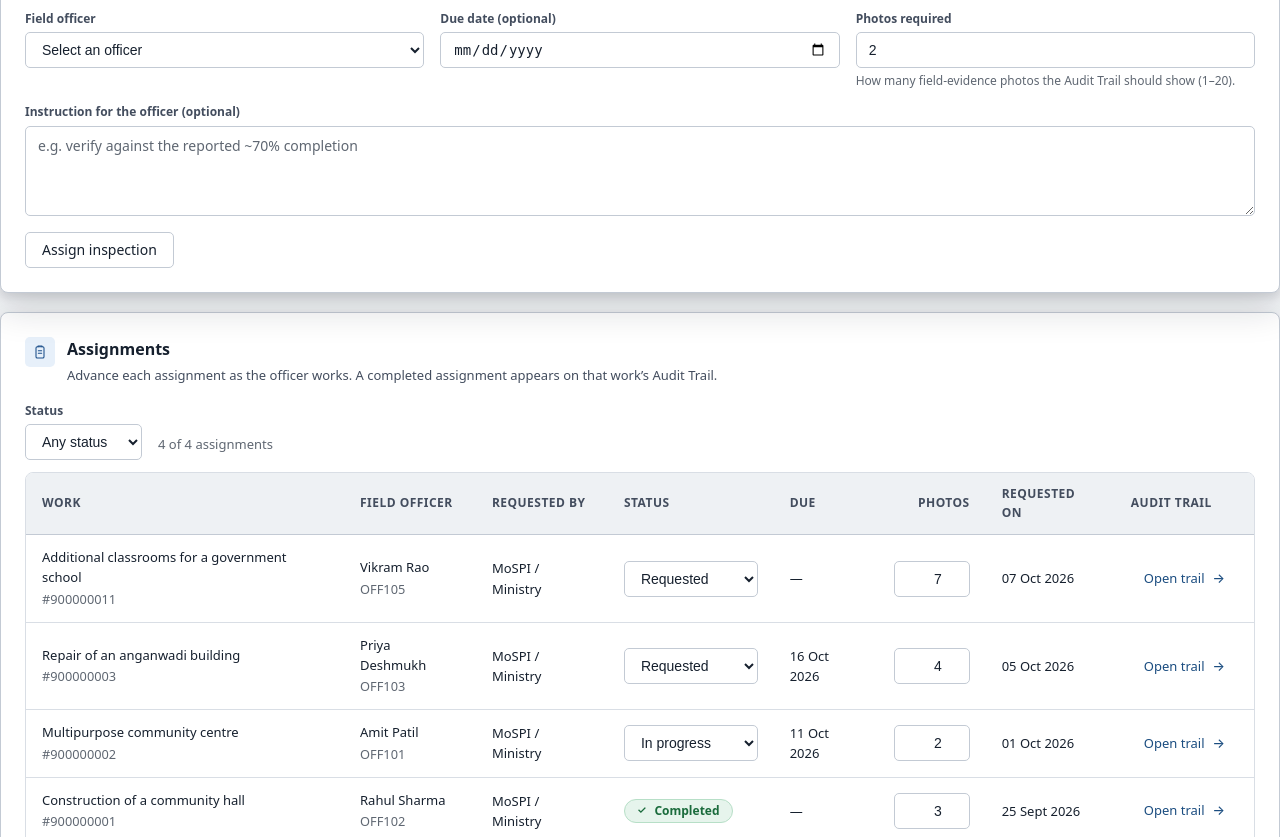
Test case: InspectionsPage › gates COMPLETED/CANCELLED behind a written sign-off request, and does not apply it yet
(page scrolled)
Select "→ Completed" in the dropdown named "Status for " in the row of "900000011": (691, 578) [624, 560, 758, 596]
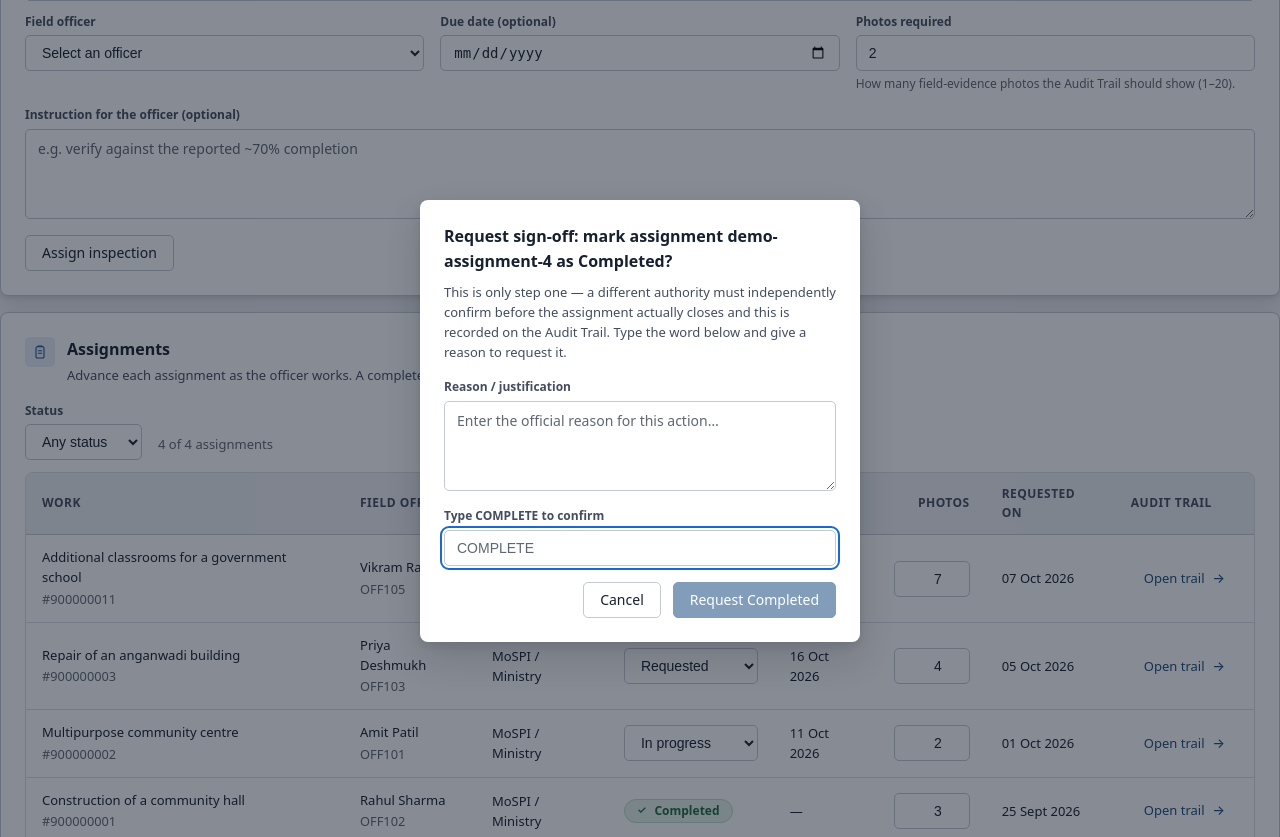
Check: the heading is shown, box [444, 225, 778, 272]
Check: the button "Request Completed" is disabled, box [673, 582, 836, 618]
// wrong confirmation word keeps it disabled
In the field labelled "Type COMPLETE to confirm": (640, 548) [444, 530, 836, 566], type "wrong"
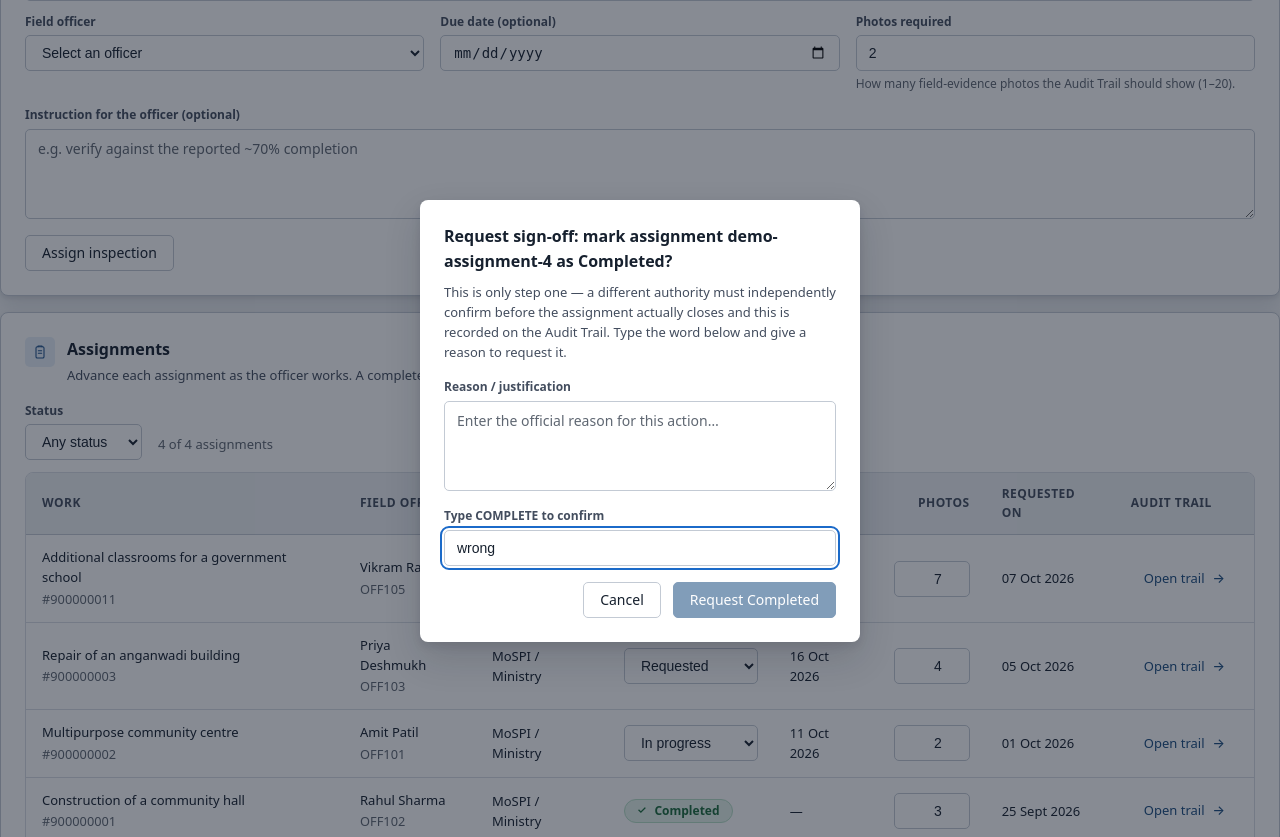
In the text box labelled "Reason / justification": (640, 446) [444, 401, 836, 491], type "Inspected on-site, work matches the sanctioned scope."
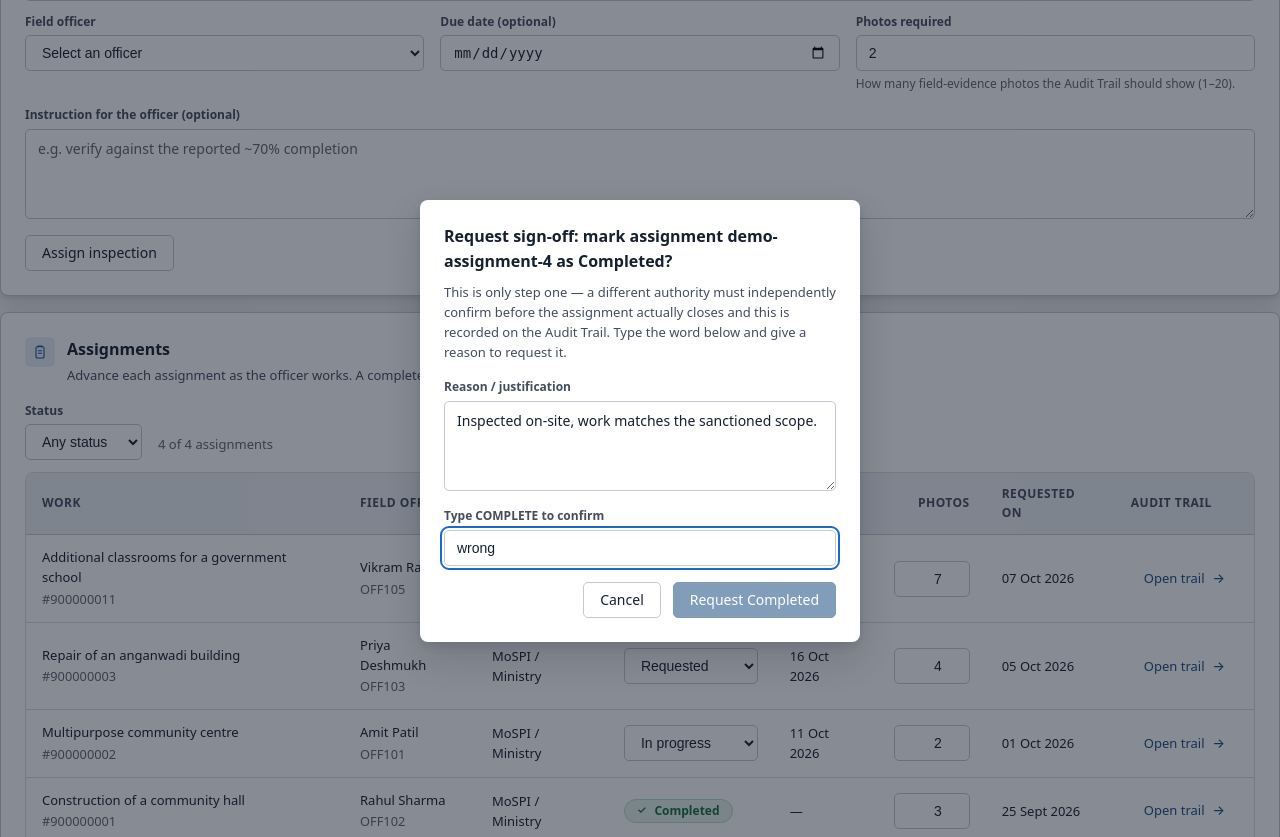
Check: the button "Request Completed" is disabled, box [673, 582, 836, 618]
Replace the text in the field labelled "Type COMPLETE to confirm" with "complete": (640, 548) [444, 530, 836, 566]
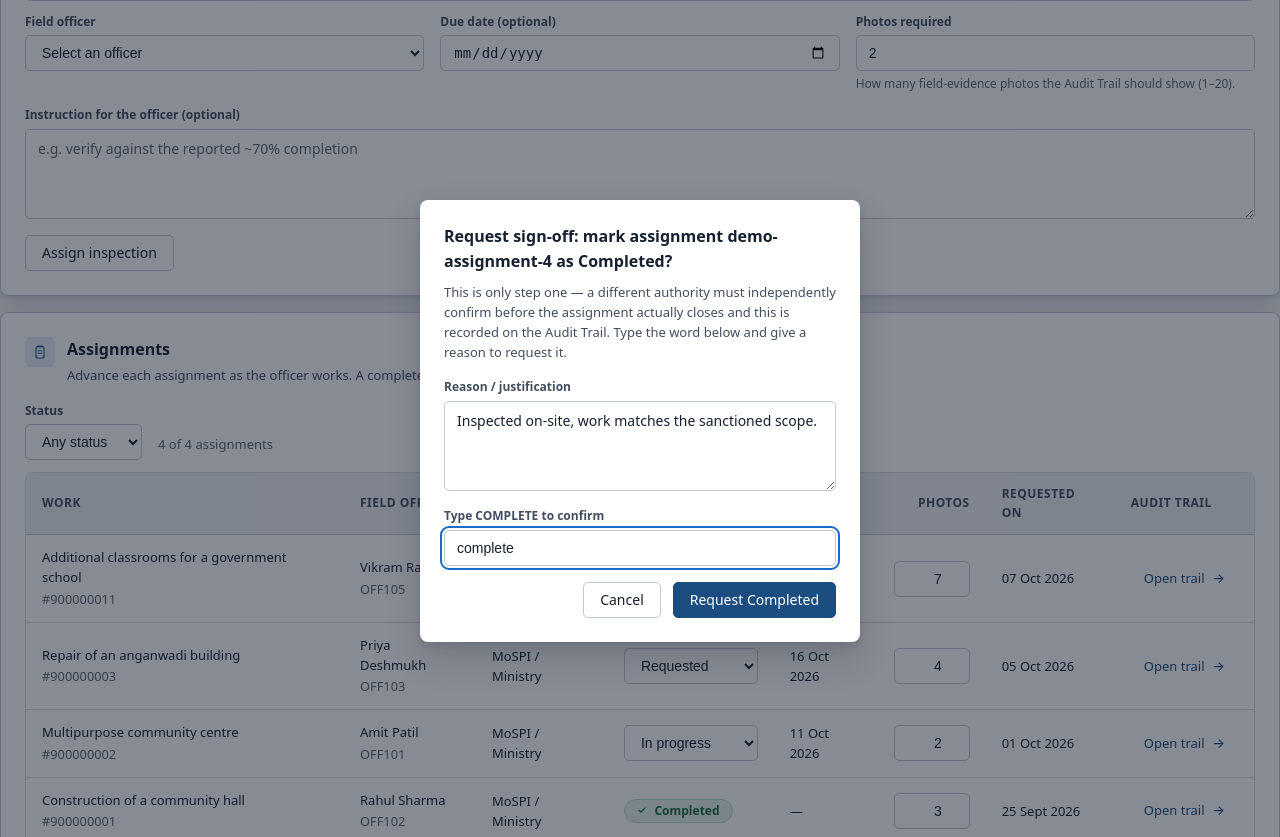
Check: the button "Request Completed" is enabled
Click the button "Request Completed": click(754, 600) [673, 582, 836, 618]
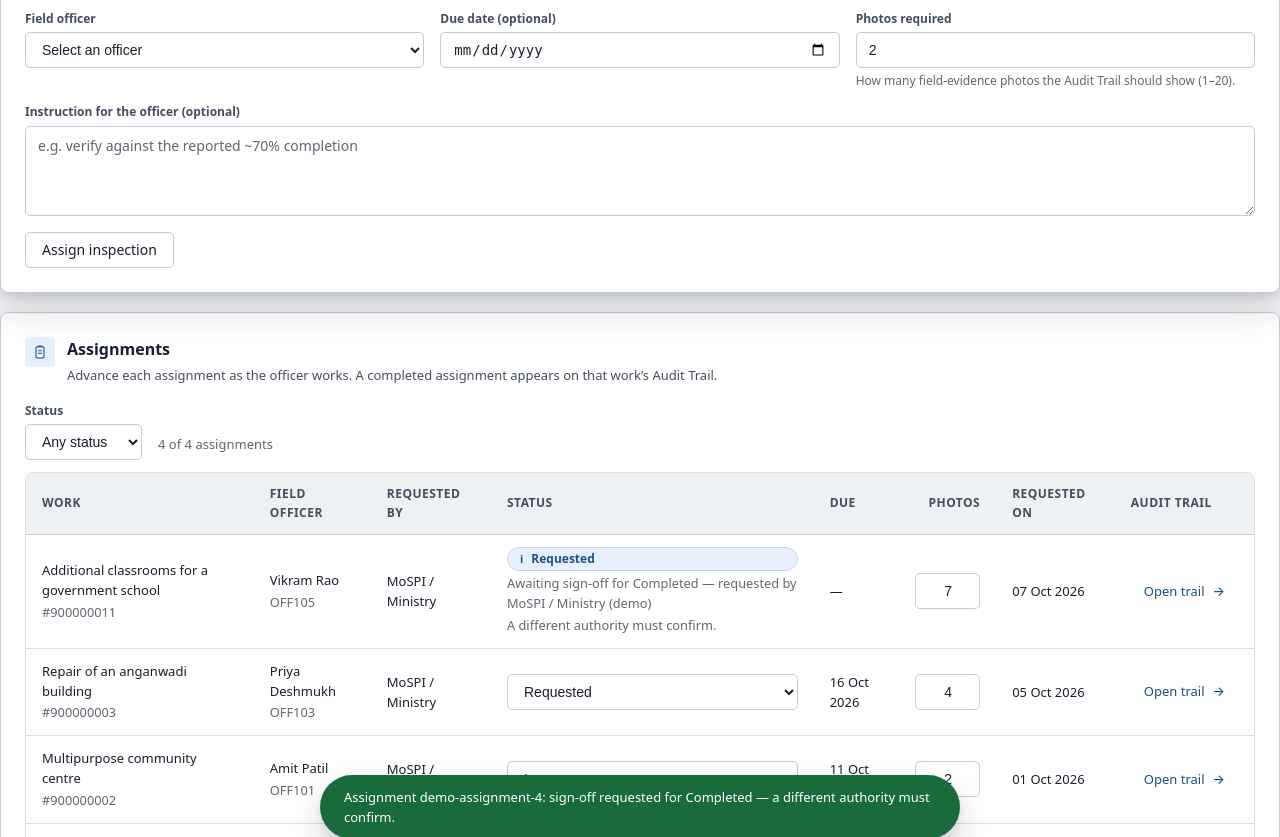
Check: the message shows "sign-off requested", box [344, 788, 930, 826]
Check: the text "Awaiting sign-off for Completed" is shown, box [507, 574, 798, 613]
Check: the text "A different authority must confirm." is shown, box [507, 616, 716, 634]
